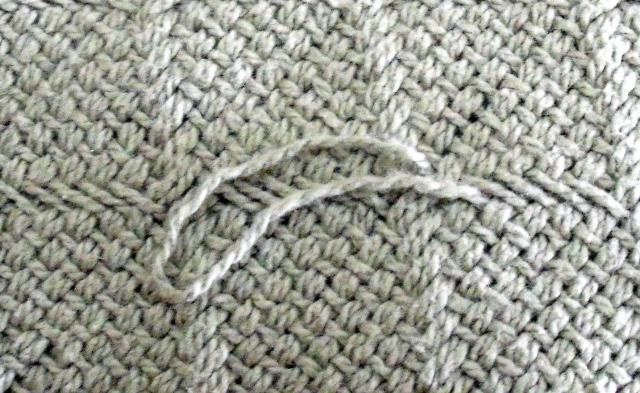snag: (134, 133, 488, 312)
